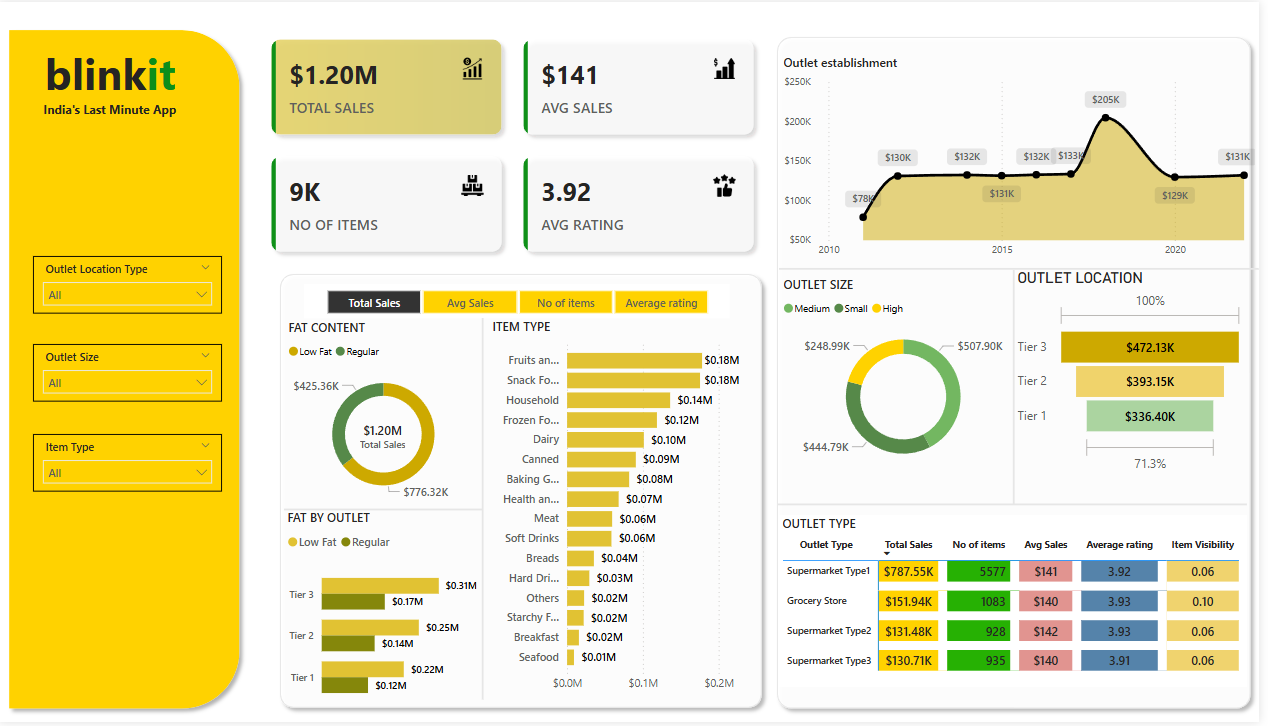

This screenshot's page, from the dashboard's own definition file:
{"tool":"powerbi","page":{"name":"Page 1","canvas":[1400,800],"ordinal":0},"visuals":[{"type":"shape","box":[2,22,274,772],"z":0},{"type":"textbox","box":[0,41.4,247.1,102.9],"z":1000},{"type":"textbox","box":[37.1,105.7,172.9,28.6],"z":2000},{"type":"cardVisual","fields":{"Data":["Table.Total Sales","Table.Avg Sales","Table.No of items","Table.Average rating"]},"box":[286,24,570,270],"z":3000},{"type":"shape","box":[303.3,293.3,553.3,500],"z":4000},{"type":"donutChart","title":"FAT CONTENT","fields":{"Y":["Table.Total Sales"],"Category":["BlinkIT Grocery Data.Item Fat Content"]},"box":[316.4,351.8,220.9,211.8],"z":5000},{"type":"slicer","fields":{"Values":["metrics.metrics"]},"box":[338.3,313.3,473.3,38.3],"z":6000},{"type":"cardVisual","fields":{"Data":["Table.Total Sales"]},"box":[381.7,450,88.3,60],"z":7000},{"type":"clusteredBarChart","title":"FAT BY OUTLET","fields":{"Y":["Table.Total Sales"],"Category":["BlinkIT Grocery Data.Outlet Location Type"],"Series":["BlinkIT Grocery Data.Item Fat Content"]},"box":[315.7,562.9,220,230],"z":8000},{"type":"shape","box":[316.7,528.3,220,70],"z":9000},{"type":"shape","box":[518.6,351.4,37.1,424.3],"z":10000},{"type":"barChart","title":"ITEM TYPE","fields":{"Y":["Table.Total Sales"],"Category":["BlinkIT Grocery Data.Item Type"]},"box":[542.9,351.4,301.4,424.3],"z":11000},{"type":"shape","box":[856,30,544,764],"z":12000},{"type":"shape","box":[866.7,280,533.3,33.3],"z":13000},{"type":"lineChart","title":"Outlet establishment","fields":{"Category":["BlinkIT Grocery Data.Outlet Establishment Year"],"Y":["Table.Total Sales"]},"box":[866.2,57.5,533.8,235],"z":14000},{"type":"donutChart","title":"OUTLET SIZE","fields":{"Y":["Table.Total Sales"],"Category":["BlinkIT Grocery Data.Outlet Size"]},"box":[867.1,304.3,275.7,224.3],"z":15000},{"type":"shape","box":[1120.9,297.3,12.7,260.9],"z":16000},{"type":"funnel","title":"OUTLET LOCATION","fields":{"Y":["Table.Total Sales"],"Category":["BlinkIT Grocery Data.Outlet Location Type"]},"box":[1127.1,297.1,261.4,231.4],"z":17000},{"type":"shape","box":[865.6,542.2,521.1,32.2],"z":18000},{"type":"pivotTable","title":"OUTLET TYPE","fields":{"Rows":["BlinkIT Grocery Data.Outlet Type"],"Values":["Table.Total Sales","Table.No of items","Table.Avg Sales","Table.Average rating","Avg(BlinkIT Grocery Data.Item Visibility)"]},"box":[865.6,570,521.1,191.1],"z":19000},{"type":"slicer","fields":{"Values":["BlinkIT Grocery Data.Outlet Location Type"]},"box":[38,282,210,64],"z":20000},{"type":"slicer","fields":{"Values":["BlinkIT Grocery Data.Outlet Size"]},"box":[38,380,210,64],"z":21000},{"type":"slicer","fields":{"Values":["BlinkIT Grocery Data.Item Type"]},"box":[38,480,210,64],"z":22000}]}

Visuals, with their boxes in screenshot pixels (x1, y1, x2, y2), scaled from the page's 1400x800 canvas onto the 1268x726 screenshot:
shape: left=2, top=20, right=250, bottom=721
textbox: left=0, top=38, right=224, bottom=131
textbox: left=34, top=96, right=190, bottom=122
cardVisual - Table.Total Sales x Table.Avg Sales: left=259, top=22, right=775, bottom=267
shape: left=275, top=266, right=776, bottom=720
"FAT CONTENT" donutChart: left=287, top=319, right=487, bottom=511
slicer - metrics.metrics: left=306, top=284, right=735, bottom=319
cardVisual - Table.Total Sales: left=346, top=408, right=426, bottom=463
"FAT BY OUTLET" clusteredBarChart: left=286, top=511, right=485, bottom=720
shape: left=287, top=479, right=486, bottom=543
shape: left=470, top=319, right=503, bottom=704
"ITEM TYPE" barChart: left=492, top=319, right=765, bottom=704
shape: left=775, top=27, right=1267, bottom=721
shape: left=785, top=254, right=1267, bottom=284
"Outlet establishment" lineChart: left=785, top=52, right=1267, bottom=265
"OUTLET SIZE" donutChart: left=785, top=276, right=1035, bottom=480
shape: left=1015, top=270, right=1027, bottom=507
"OUTLET LOCATION" funnel: left=1021, top=270, right=1258, bottom=480
shape: left=784, top=492, right=1256, bottom=521
"OUTLET TYPE" pivotTable: left=784, top=517, right=1256, bottom=691
slicer - BlinkIT Grocery Data.Outlet Location Type: left=34, top=256, right=225, bottom=314
slicer - BlinkIT Grocery Data.Outlet Size: left=34, top=345, right=225, bottom=403
slicer - BlinkIT Grocery Data.Item Type: left=34, top=436, right=225, bottom=494
